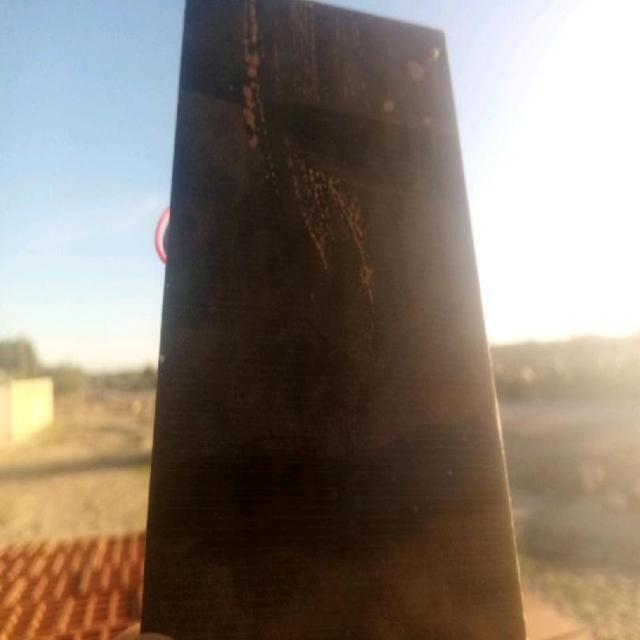faulty: (187, 10, 477, 640)
